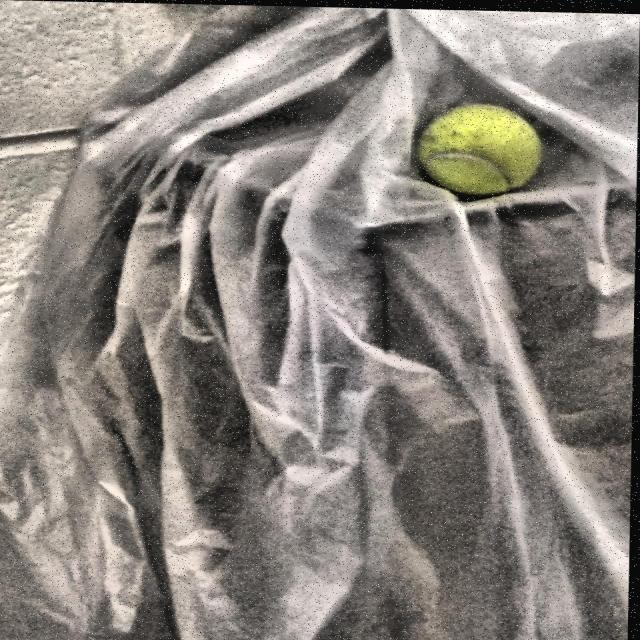tennis-ball: (411, 97, 551, 202)
